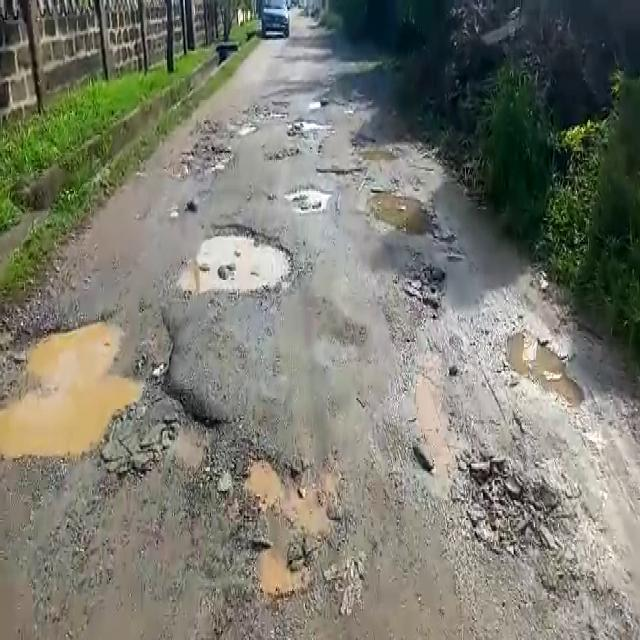Pothole: (2, 311, 224, 475), (206, 446, 350, 608), (455, 453, 568, 562), (184, 222, 303, 300), (505, 331, 587, 412), (367, 189, 440, 240), (388, 267, 448, 310), (172, 142, 235, 180), (287, 184, 329, 210), (285, 116, 328, 134), (314, 161, 362, 175), (227, 118, 260, 137), (268, 145, 306, 161)
